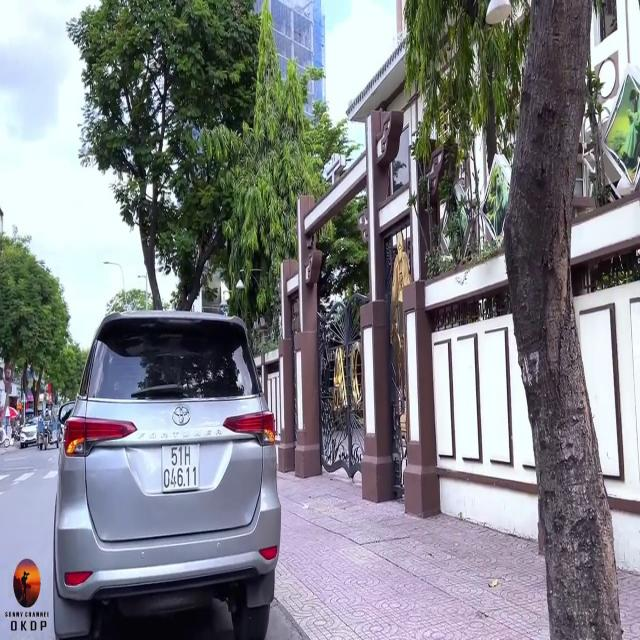bien_trang: (162, 440, 199, 493)
